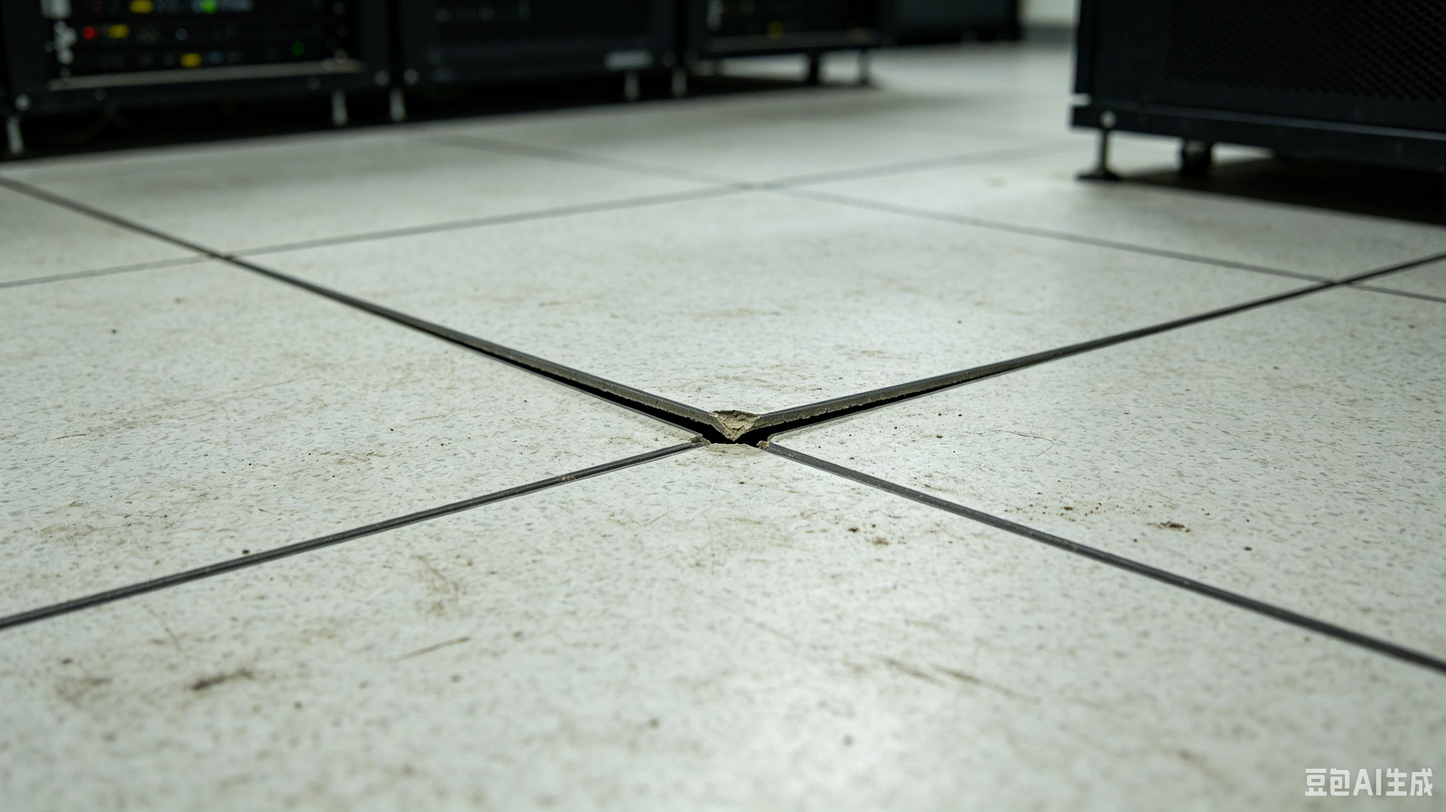floor_defect: (480, 318, 1009, 482)
